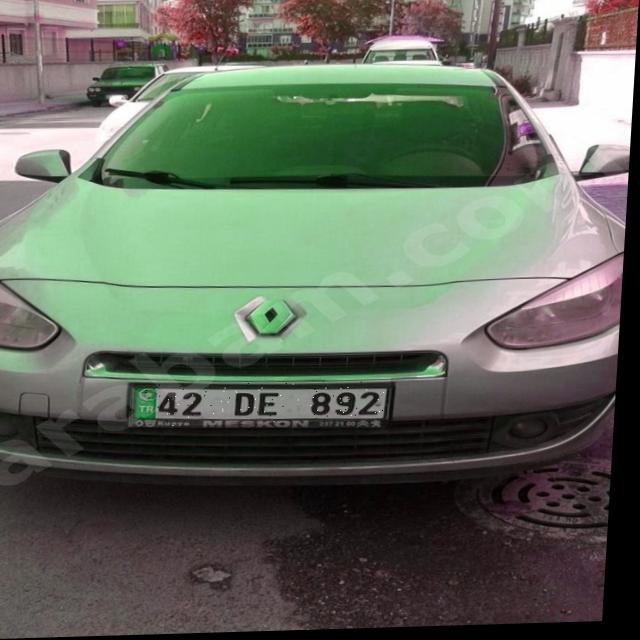license_plate: (134, 380, 396, 428)
